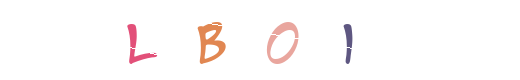0: (222, 0, 302, 80)
B: (221, 0, 301, 80)
I: (308, 0, 388, 80)
L: (143, 0, 223, 80)
